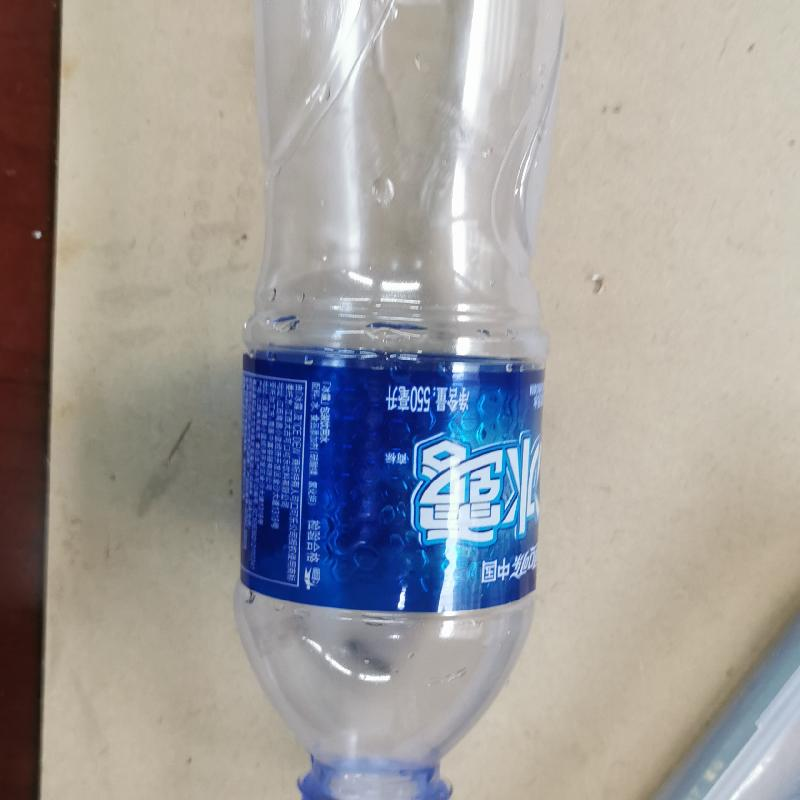bottles: (225, 4, 569, 799)
